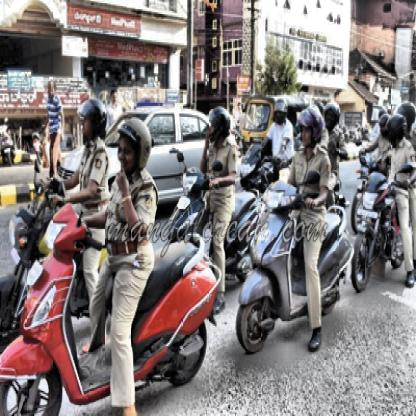wear: (77, 97, 103, 155), (120, 122, 145, 174), (295, 106, 323, 142), (208, 102, 229, 142), (400, 102, 416, 130), (274, 99, 290, 126), (388, 116, 404, 141), (379, 108, 390, 138), (327, 102, 338, 130)
